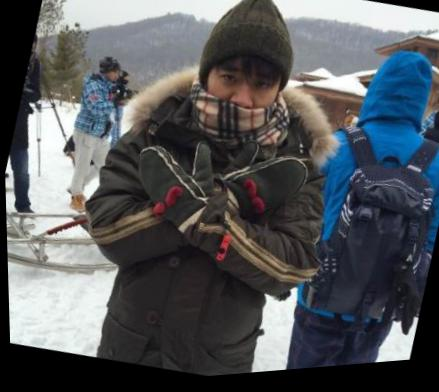NONE: (106, 67, 122, 87)
WRONG: (193, 56, 285, 157)
